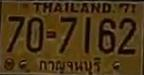0: (26, 16, 43, 52)
1: (84, 17, 90, 52)
2: (118, 17, 136, 53)
6: (98, 17, 115, 53)
7: (7, 15, 24, 52), (59, 16, 76, 52)
KRI: (37, 56, 104, 75)
